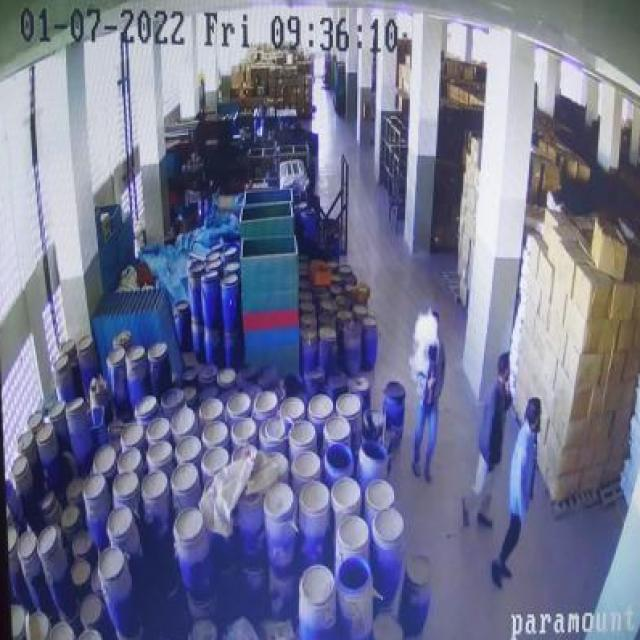fire: (408, 304, 442, 386)
